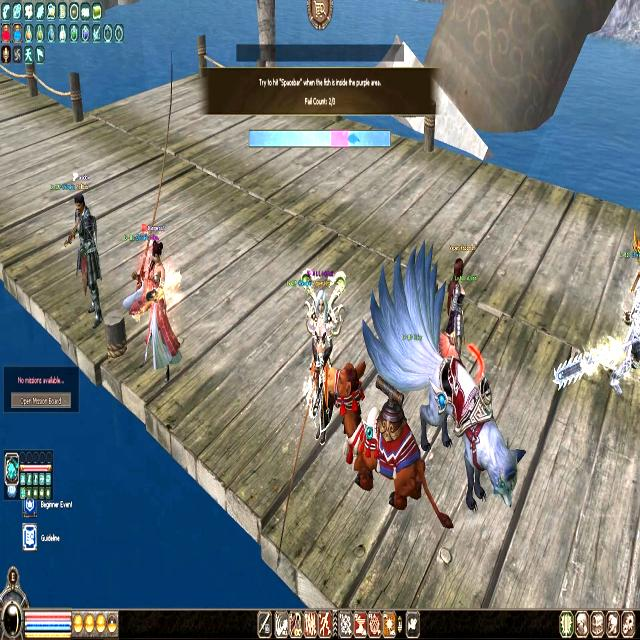fishes: (347, 132, 360, 145)
